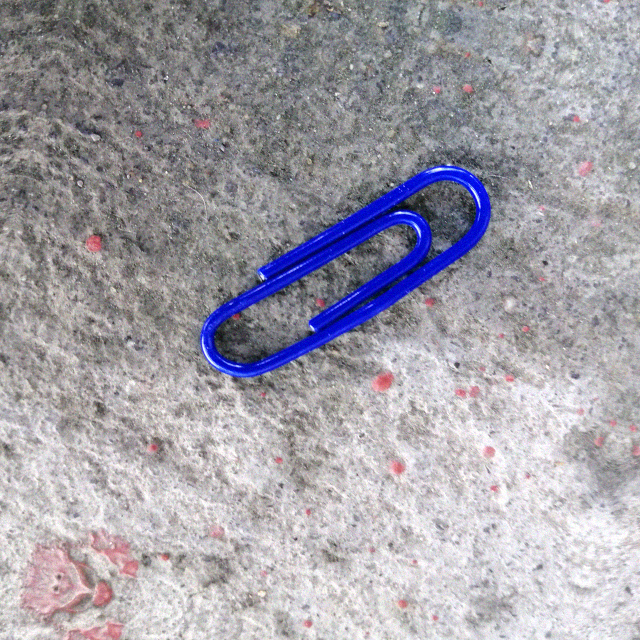pin: (198, 108, 499, 429)
